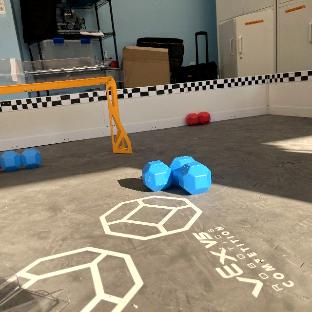V5_BLUE: (142, 156, 211, 195), (0, 148, 40, 171)
V5_RED: (186, 111, 210, 126)
